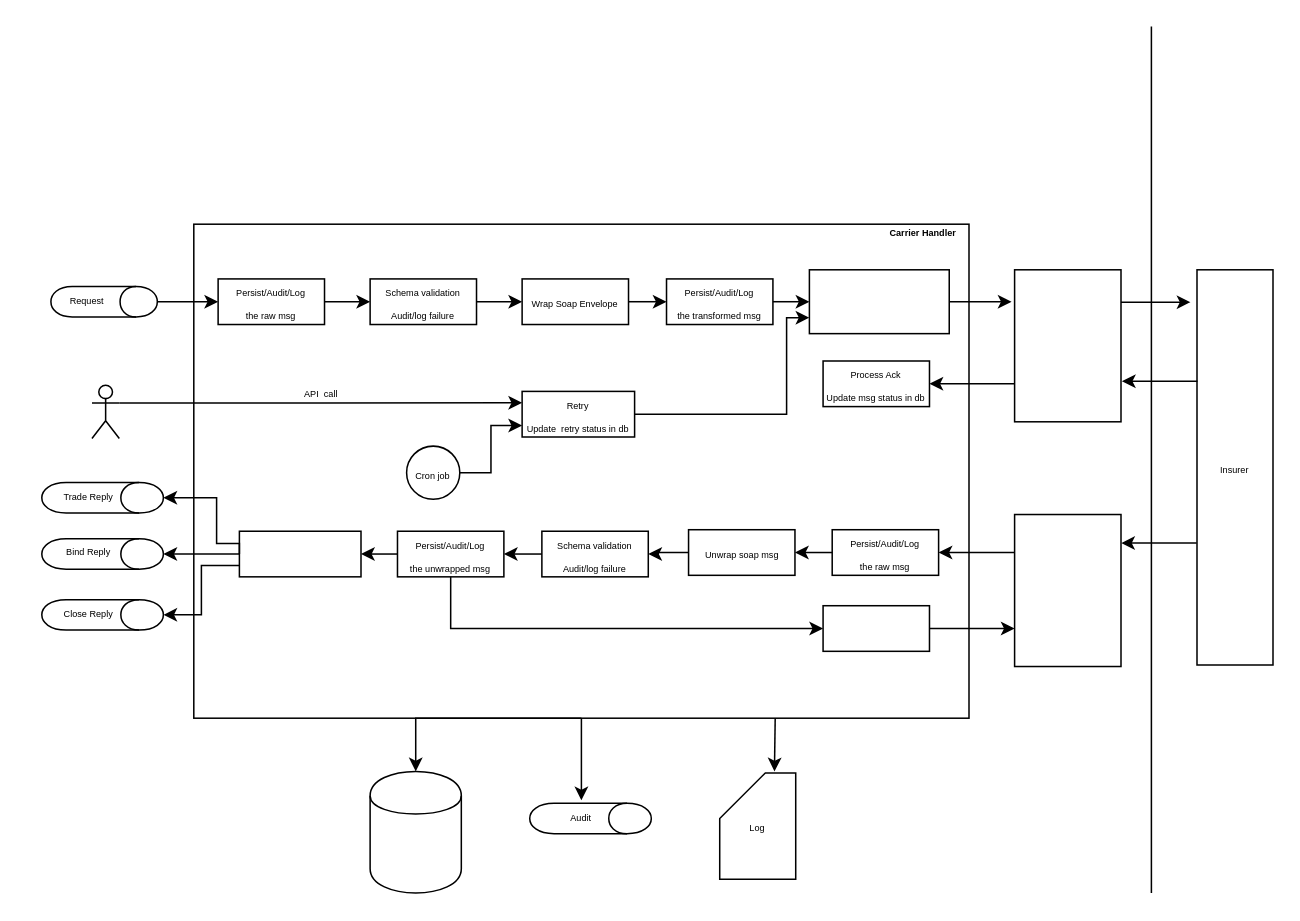
Image size: 1300x921. Some labels were removed from this diagram. The shapes that lost their labels are listed below. From the top down, each one's box as (x1, y1, x2, y2) in pixels, then its label:
(808, 268, 949, 334): Get insurer detail from msg Construct/call proxy server url Audit/log exception
(1013, 268, 1121, 422): Outbound Proxy (parse and proxy the request to insurer api )
(90, 384, 119, 439): Caller
(238, 530, 361, 577): Enqueue unwrapped msg Update msg status in db
(1013, 513, 1121, 667): Inbound Proxy (proxy the response to WPG/Handler )
(822, 604, 929, 651): Return Ack
(369, 770, 461, 893): Msg Persistence
